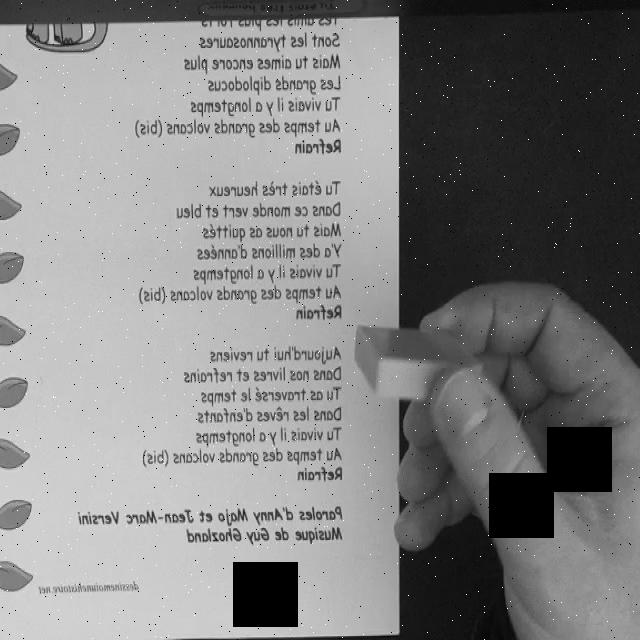square: (355, 324, 483, 399)
